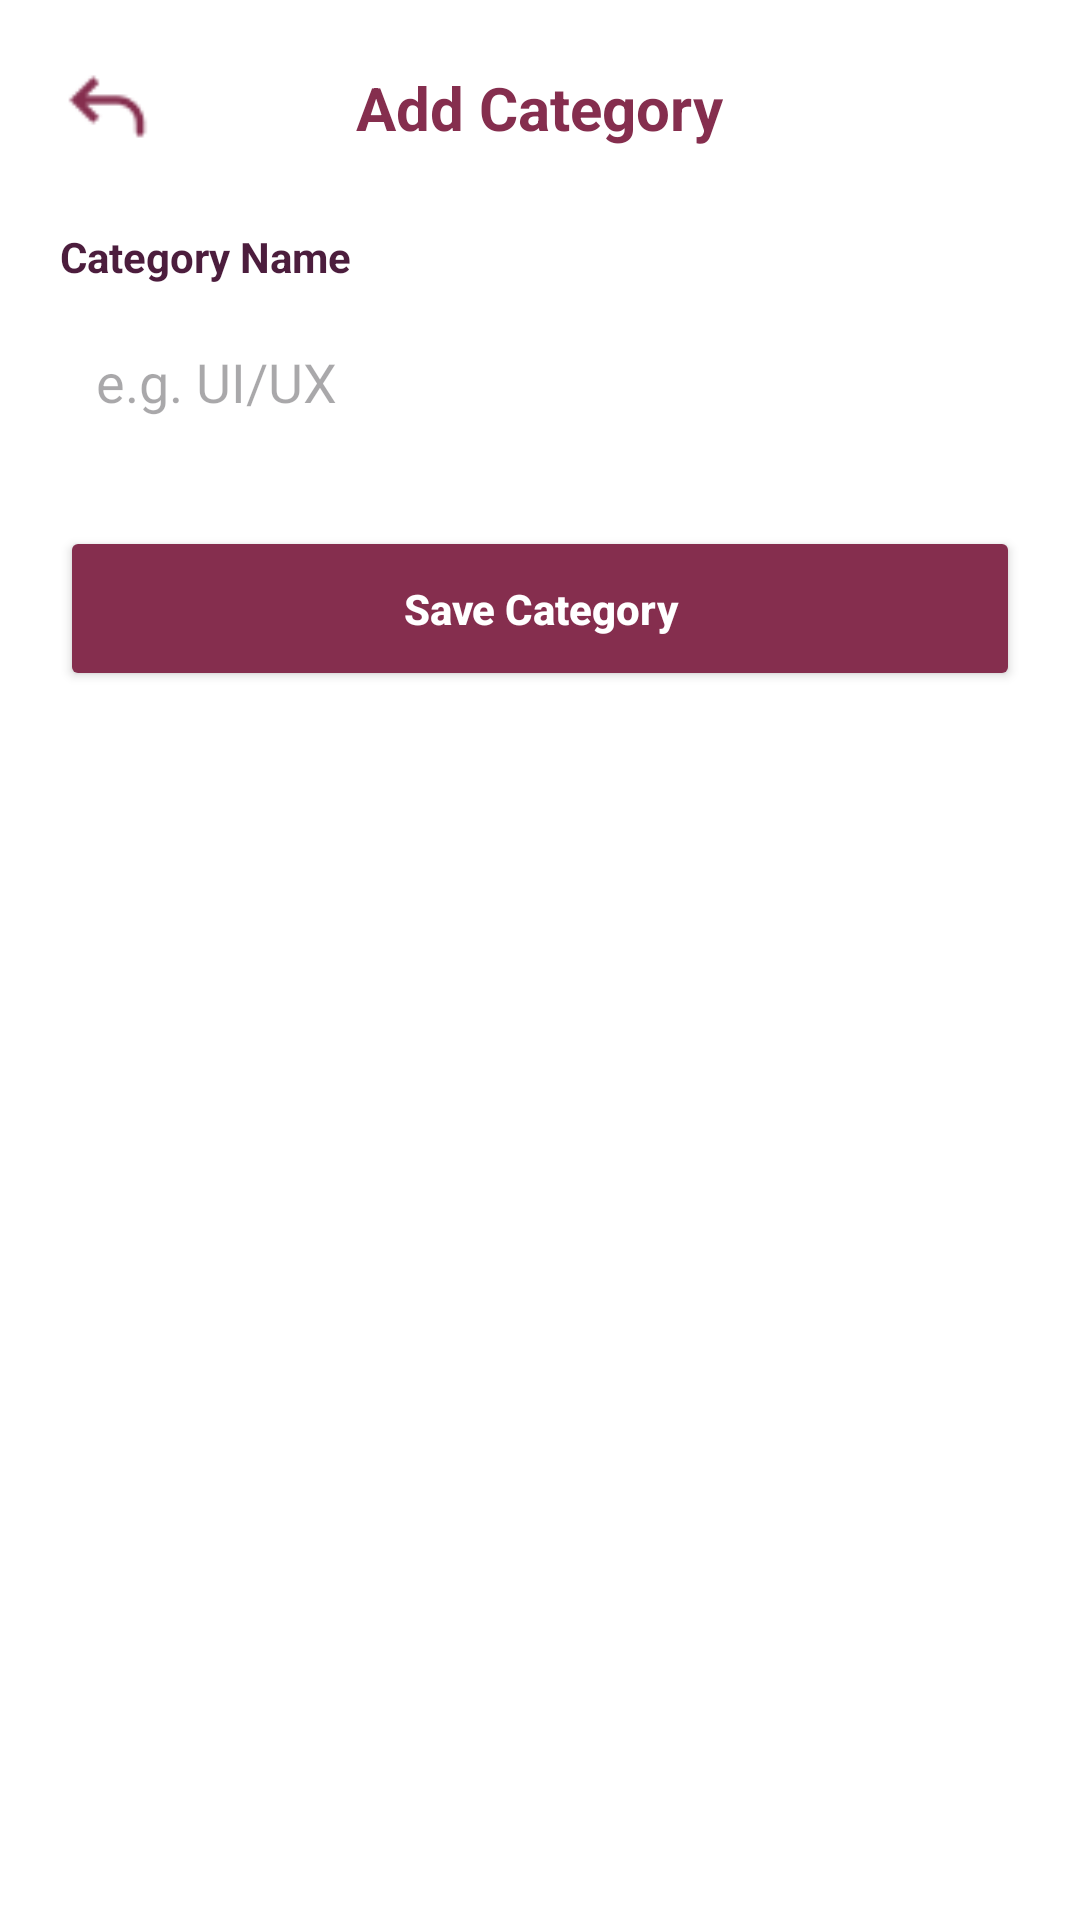

Icon click points for this 1080px×1920px phone screenshot, format (x,y):
back: (108,106)
